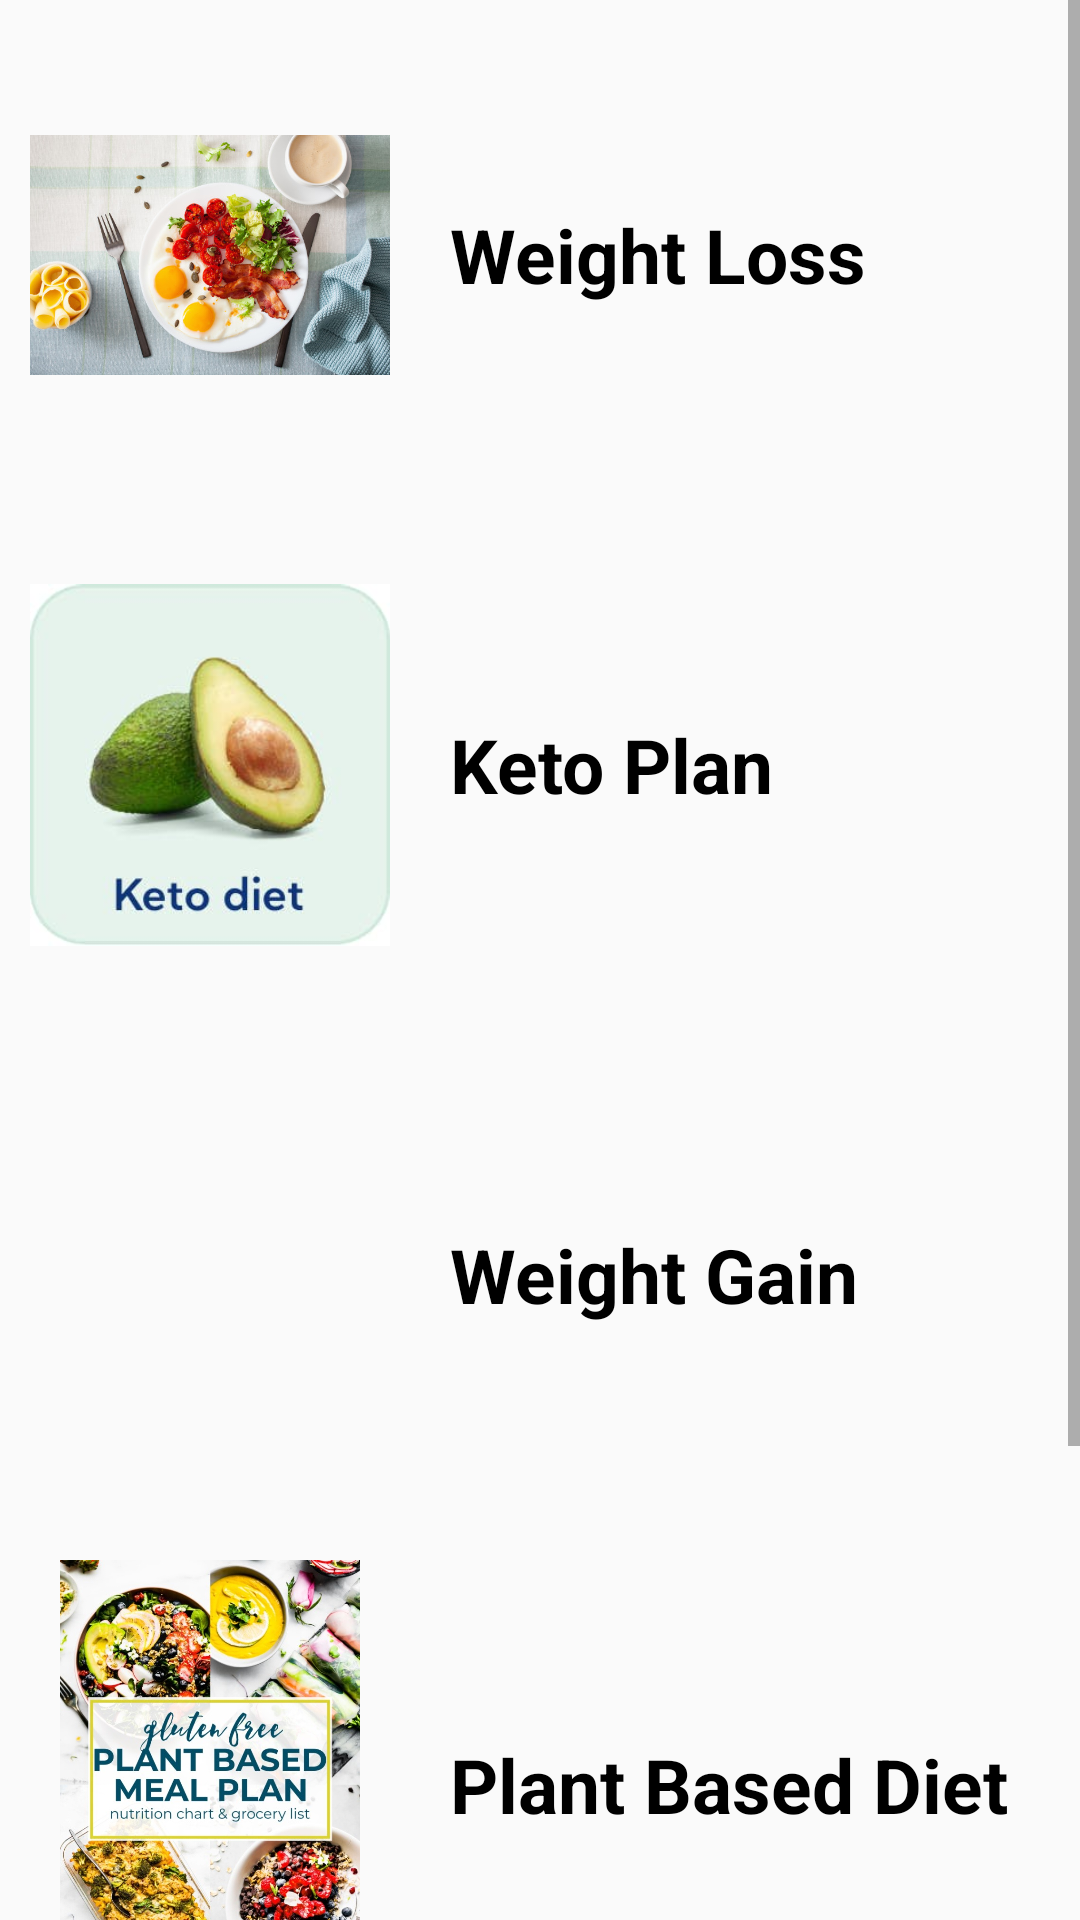

Where icons sit on this 1080px×1920px app screen, as [x1=x1, y1=y1, x2=x2, y2=y2]:
lowcarb: [x1=30, y1=135, x2=390, y2=375]
